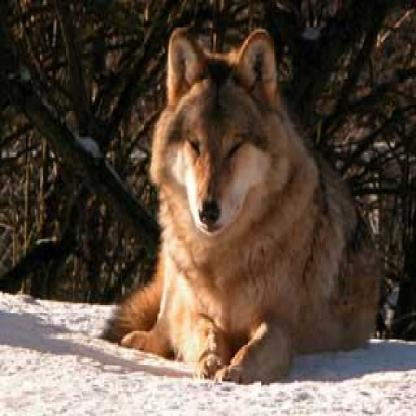dhole: (99, 26, 382, 387)
